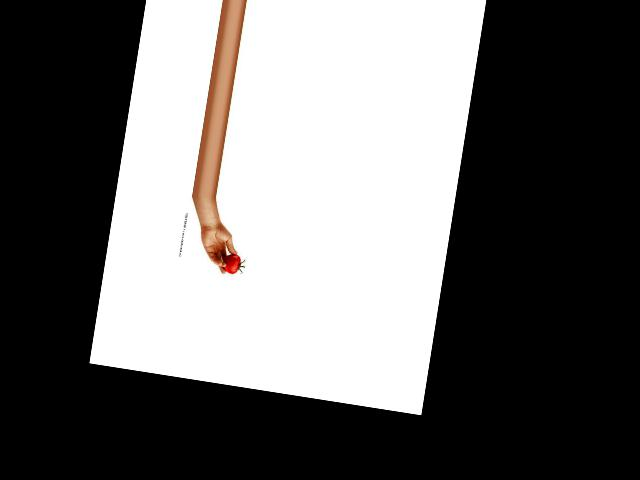tomato: (221, 252, 241, 274)
